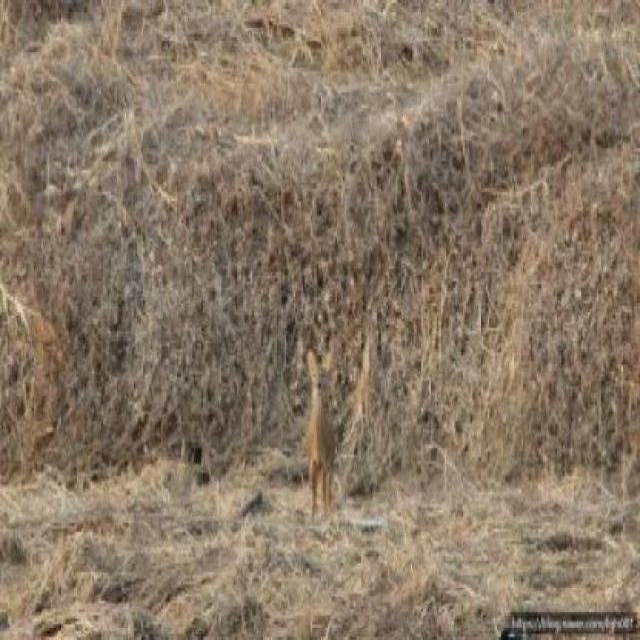deer: (286, 340, 351, 527)
